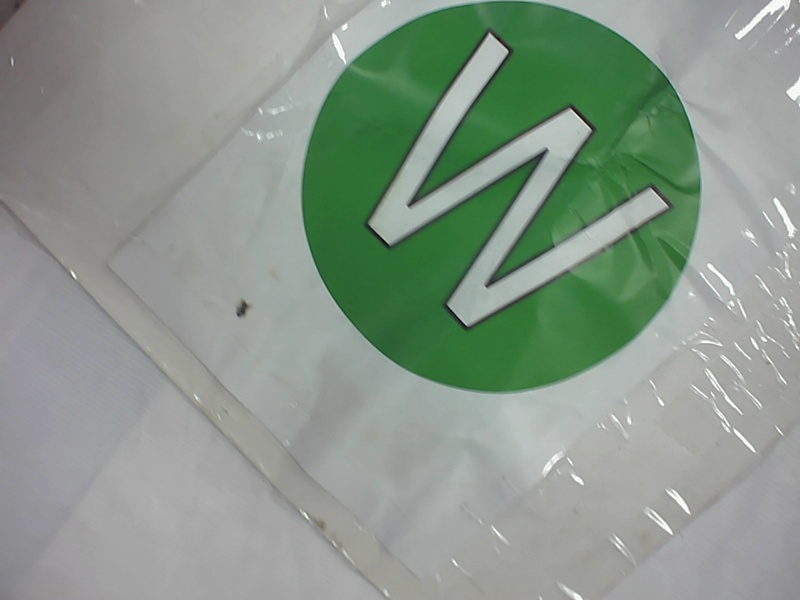areaB: (293, 5, 719, 397)
